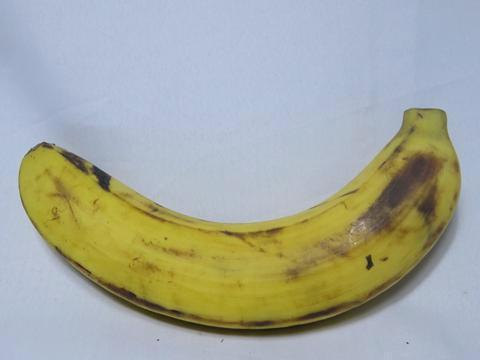overripe: (10, 87, 478, 359)
